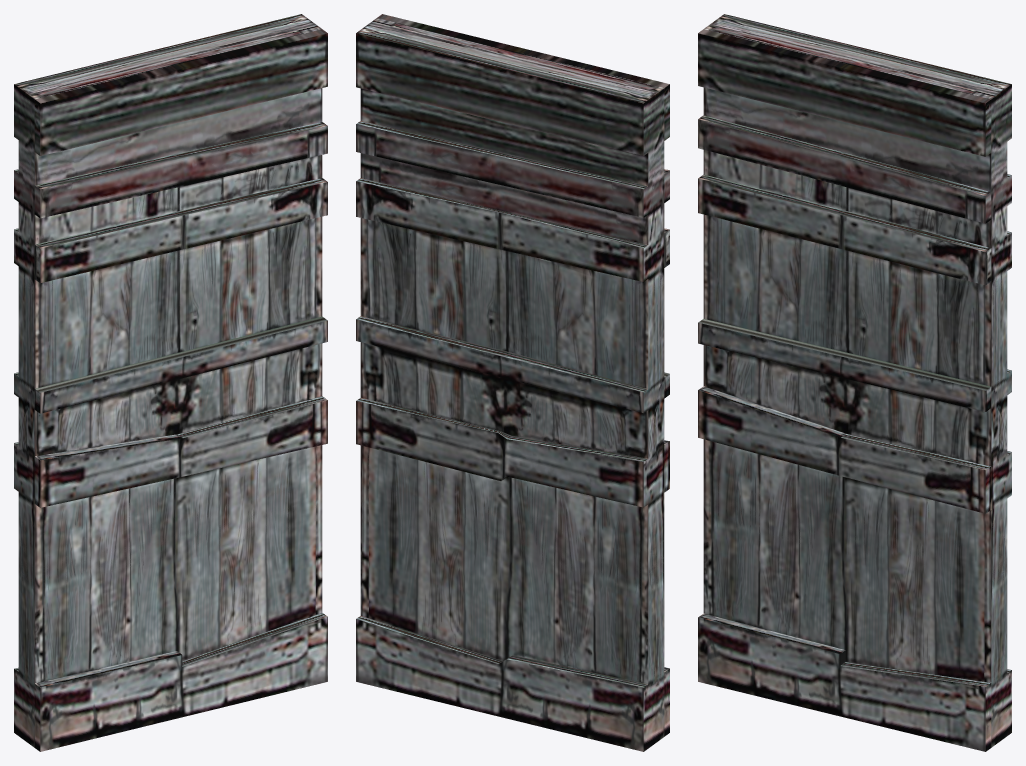
File: doors1.dae
The picture shows the model from 3 angles, left to right: view 1: azimuth 30°, elevation 25°; view 2: azimuth 150°, elevation 25°; view 3: azimuth 330°, elevation 25°; orthographic projection.
Visible parts, largest first — view 1: door_1; view 2: door_1; view 3: door_1.
Boxes of the visible parts, <box> form: door_1: <box>14,14,327,751</box>; door_1: <box>356,14,669,751</box>; door_1: <box>698,14,1011,751</box>.
Size of the model in its own units: 1.09 by 0.1724 by 2.35.
Materials: 1 (1 with a texture image).
